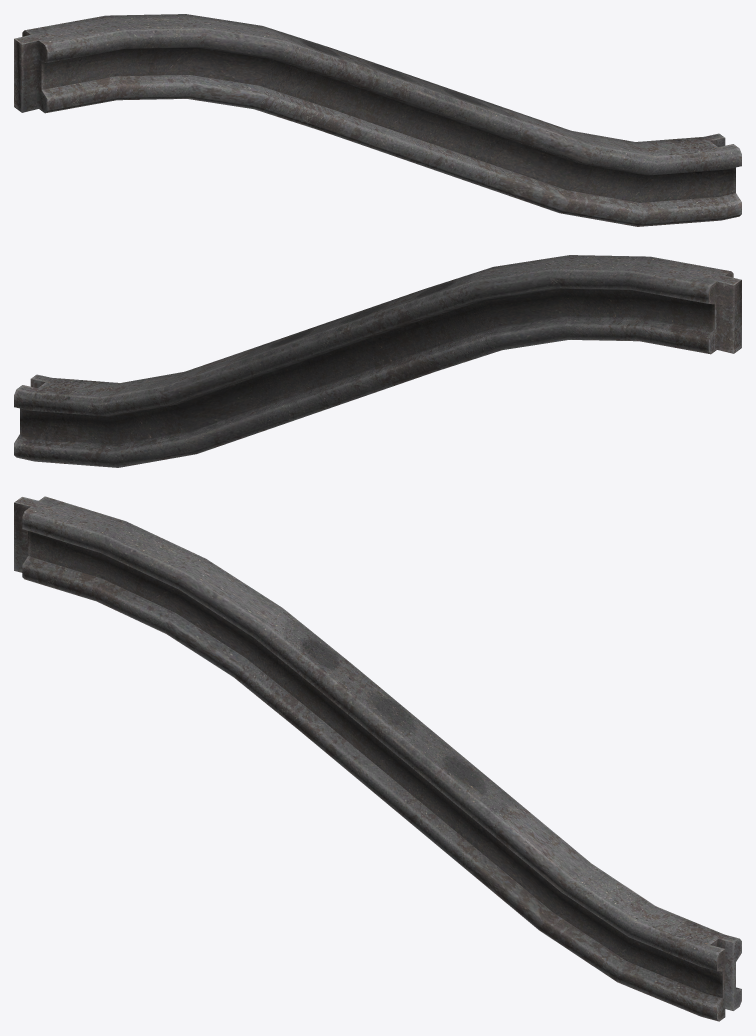
Rendered from ceiling_rail_track_changeheight.dae.
3 renders of one model, top to bottom at view 1: azimuth 30°, elevation 25°; view 2: azimuth 150°, elevation 25°; view 3: azimuth 330°, elevation 25°, orthographic.
Parts seen in each view (by area): view 1: changeheight; view 2: changeheight; view 3: changeheight.
Part boxes in pixels (x1,y1,x2,y2): changeheight: [14, 14, 741, 226]; changeheight: [14, 255, 741, 467]; changeheight: [14, 496, 741, 1021].
Bounding box in the file's own units: 2.05 × 0.9375 × 0.125.
